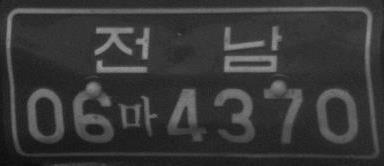0: (314, 87, 359, 145), (26, 87, 64, 143)
3: (213, 87, 257, 144)
4: (165, 87, 208, 140)
6: (71, 87, 116, 143)
7: (262, 87, 304, 145)
마: (118, 95, 157, 137)
전남_D: (93, 25, 283, 71)
